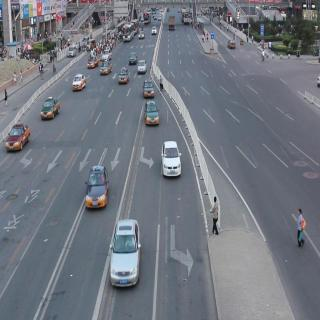BigCar: (120, 20, 136, 43), (167, 11, 177, 31)
Car: (108, 218, 143, 288), (84, 164, 107, 209), (5, 122, 31, 154), (161, 141, 183, 177), (40, 97, 61, 120), (144, 101, 159, 125), (142, 78, 155, 99), (72, 74, 86, 92), (227, 34, 238, 52), (99, 60, 112, 75), (118, 68, 130, 84), (138, 57, 148, 76), (151, 23, 160, 39), (88, 56, 98, 70), (129, 50, 137, 67), (68, 41, 76, 57), (138, 30, 146, 43)
